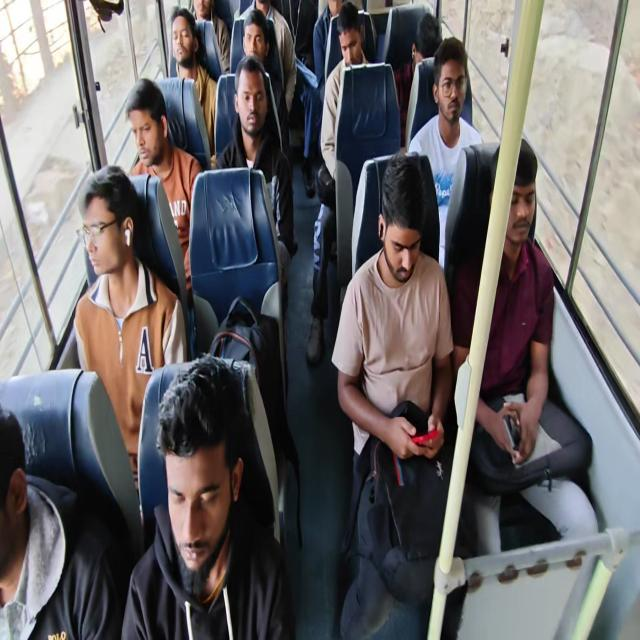person: (331, 150, 465, 638), (450, 138, 599, 557), (121, 353, 294, 639), (73, 164, 187, 502), (0, 404, 121, 639), (306, 1, 373, 365), (407, 36, 483, 270), (124, 78, 203, 296), (213, 55, 296, 262), (300, 0, 344, 198), (235, 8, 290, 153), (167, 6, 218, 156), (393, 12, 443, 146), (312, 0, 344, 103), (192, 0, 231, 74)
